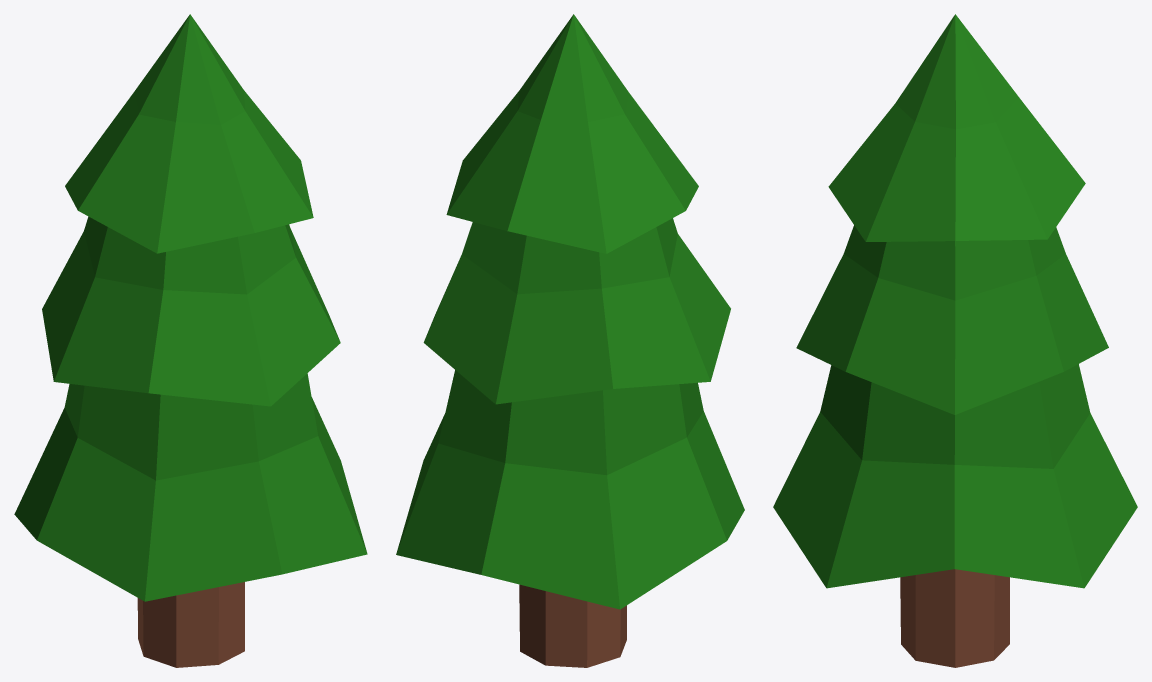
File: Tree_01_summer_mat.fbx
3 renders of one model, left to right at view 1: azimuth 30°, elevation 25°; view 2: azimuth 150°, elevation 25°; view 3: azimuth 270°, elevation 25°, orthographic.
Visible parts, largest first — view 1: Tree_01_summer_mat; view 2: Tree_01_summer_mat; view 3: Tree_01_summer_mat.
Part boxes in pixels (x1=…): Tree_01_summer_mat: x1=14, y1=14, x2=367, y2=667; Tree_01_summer_mat: x1=396, y1=14, x2=744, y2=667; Tree_01_summer_mat: x1=773, y1=14, x2=1137, y2=667.
Size of the model in its own units: 3.33 by 6.61 by 3.47.
